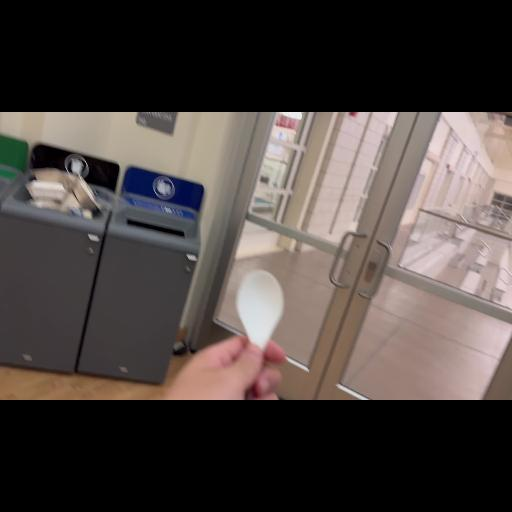utensil: (230, 268, 284, 400)
